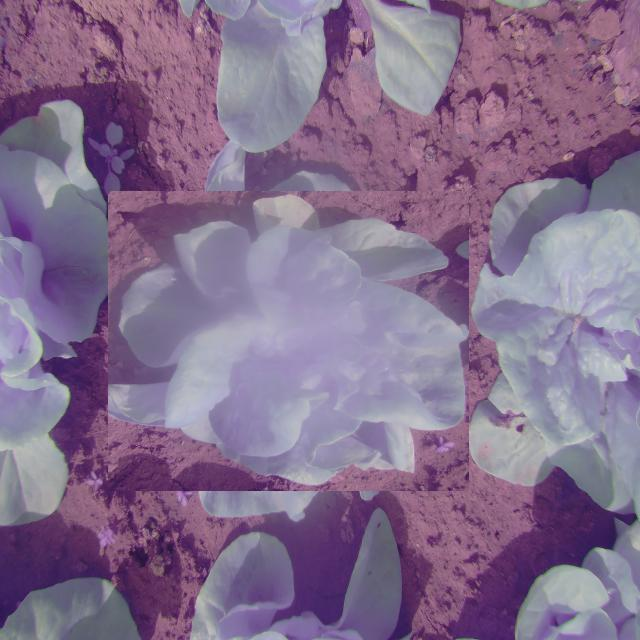vege: (123, 175, 454, 506)
